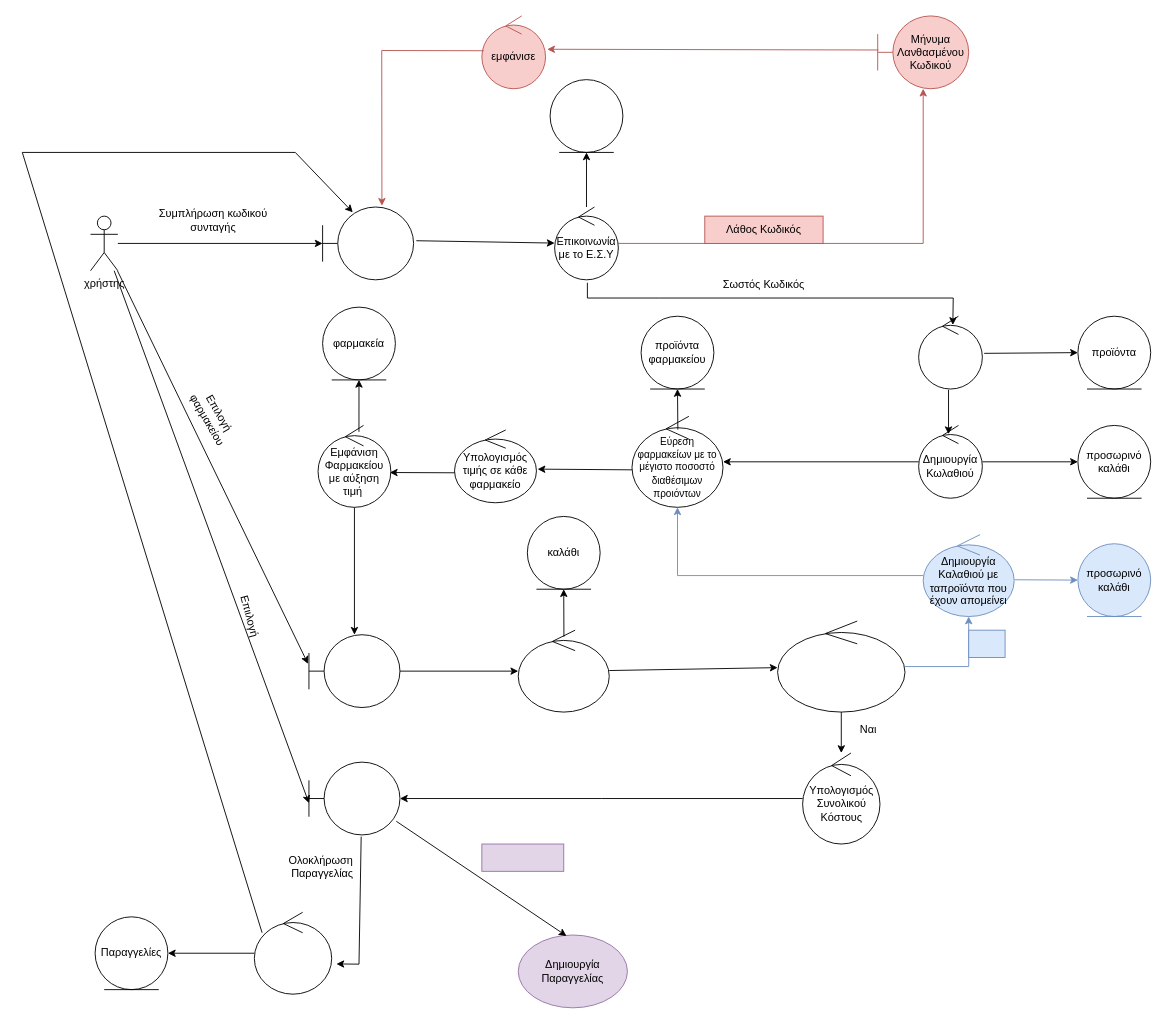
This 1167x1024 diagram has some shape labels left out. Here are the shapes that lost their labels. From the top down, the centre of each, then its label:
[586,115]: Ε.Σ.Υ(Εθνικό Σύστημα Υγείας)
[368,243]: Κύρια Οθόνη
[950,352]: εύρεση προϊόντων
[986,643]: Όχι
[354,671]: Οθόνη Επιλογής Φαρμακείου
[563,670]: Προσθήκη Προιόντων στο Καλάθι Αγορών
[841,666]: Ήταν το ποσοστό διαθέσιμων προϊόντων 100%;
[354,798]: Oλοκλήρωση Παραγγελίας ή Συνέχεια Αγορών
[522,857]: Όχι,συνέχεια αγορών
[292,952]: Καταχώηρηση Παραγγελίας
